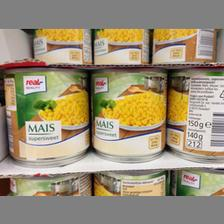Mais: (2, 67, 90, 165), (90, 67, 166, 161), (166, 66, 222, 158), (92, 28, 150, 64), (150, 28, 214, 60), (32, 28, 88, 64)
